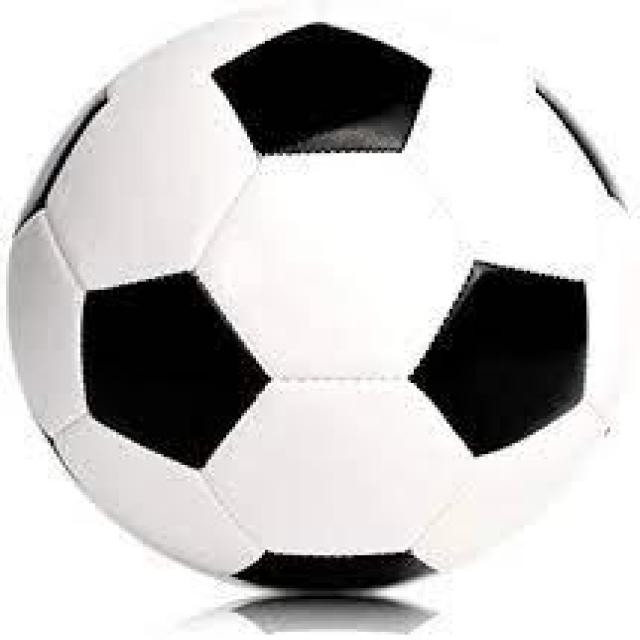Soccer Ball: (3, 3, 640, 599)
